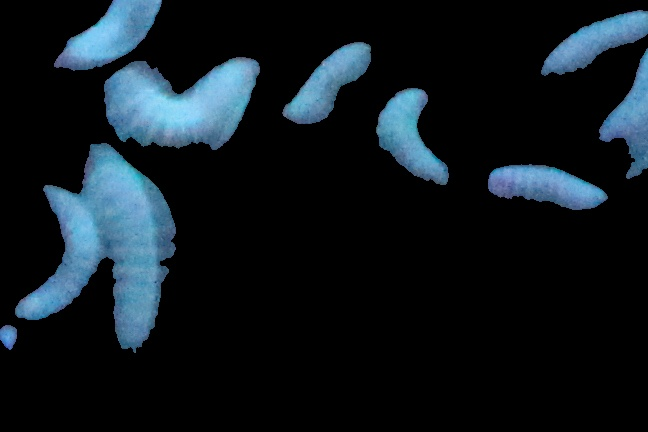larvae: (99, 58, 273, 150), (90, 152, 169, 342), (15, 180, 98, 319), (27, 1, 158, 76), (535, 13, 644, 96), (372, 87, 447, 190), (282, 38, 370, 125), (485, 161, 613, 218)
